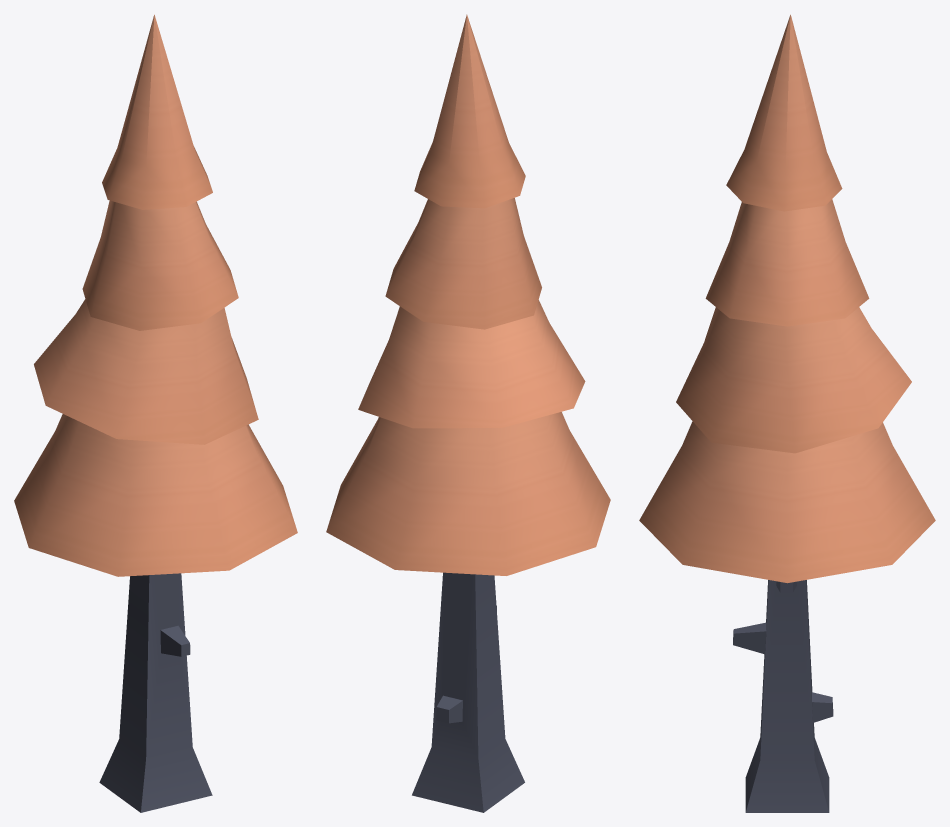
The model's file is tree-high-crooked.glb.
The picture shows the model from 3 angles, left to right: view 1: azimuth 30°, elevation 25°; view 2: azimuth 150°, elevation 25°; view 3: azimuth 270°, elevation 25°; orthographic projection.
Parts seen in each view (by area): view 1: tree-high-crooked; view 2: tree-high-crooked; view 3: tree-high-crooked.
Part boxes in pixels (left/top/right/bottom): tree-high-crooked: left=14, top=14, right=297, bottom=812; tree-high-crooked: left=326, top=14, right=610, bottom=812; tree-high-crooked: left=639, top=14, right=935, bottom=812.
Bounding box in the file's own units: 1.02 × 2.97 × 1.02.
1 material, 1 textured.
